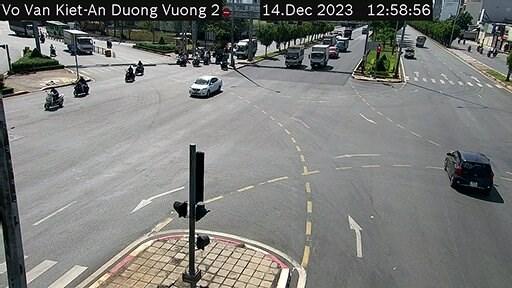car: (449, 144, 489, 194), (189, 71, 231, 108)
motorbike: (68, 76, 86, 97), (45, 90, 68, 105), (122, 67, 135, 83), (132, 59, 145, 75)
truck: (306, 42, 332, 70), (63, 32, 90, 55), (279, 46, 300, 71)
